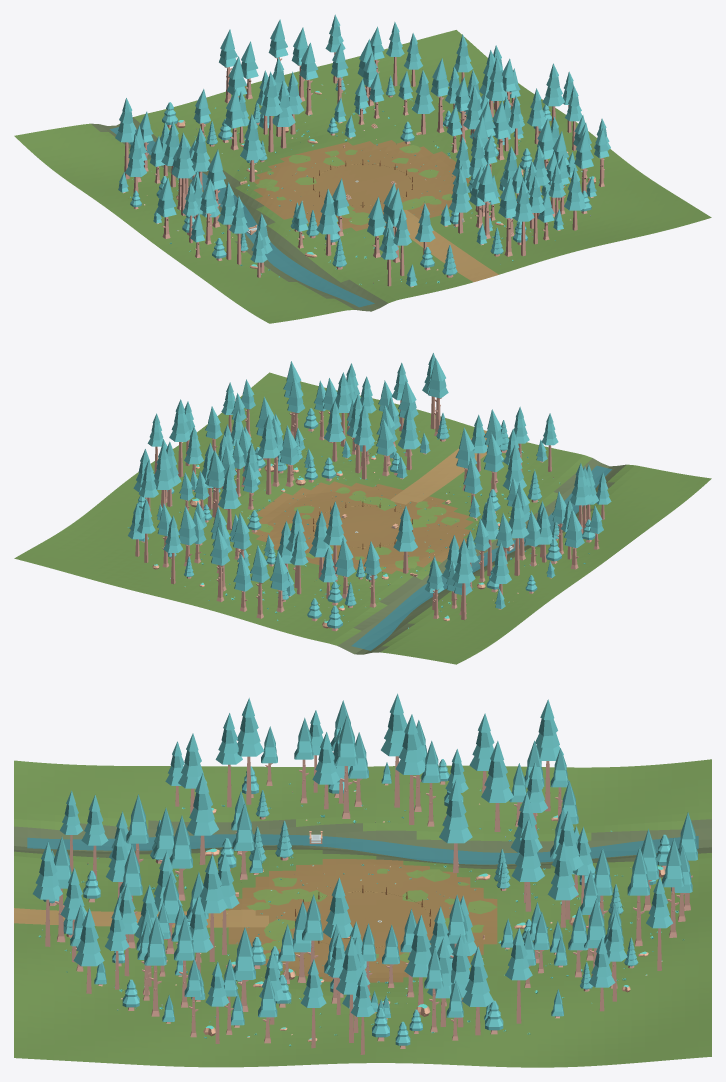
Rendered from first_person_world.glb.
The picture shows the model from 3 angles, top to bottom: view 1: azimuth 30°, elevation 25°; view 2: azimuth 150°, elevation 25°; view 3: azimuth 270°, elevation 25°; orthographic projection. The views are drawn at different scales.
Parts seen in each view (by area): view 1: WorldTerrain, ForestStream, ForestTree_146, ForestTree_017, ForestTree_170, ForestTree_156, ForestTree_160, ForestTree_053, ForestTree_124, ForestTree_142, ForestTree_112, ForestTree_161 (+28 smaller); view 2: WorldTerrain, ForestStream, ForestTree_053, ForestTree_021, ForestTree_146, ForestTree_170, ForestTree_022, ForestTree_160, ForestTree_142, ForestTree_017, ForestTree_119, ForestTree_161 (+27 smaller); view 3: WorldTerrain, ForestStream, ForestTree_170, ForestTree_094, ForestTree_111, ForestTree_156, ForestTree_153, ForestTree_053, ForestTree_042, ForestTree_146, ForestTree_173, ForestTree_043 (+63 smaller).
Boxes of the visible parts, <box> form: WorldTerrain: <box>14,30,711,323</box>; ForestStream: <box>110,127,374,307</box>; ForestTree_146: <box>171,132,195,215</box>; ForestTree_017: <box>259,71,282,152</box>; ForestTree_170: <box>240,114,264,182</box>; ForestTree_156: <box>316,189,340,255</box>; ForestTree_160: <box>498,177,517,256</box>; ForestTree_053: <box>115,98,136,179</box>; ForestTree_124: <box>477,162,496,239</box>; ForestTree_142: <box>449,168,472,233</box>; ForestTree_112: <box>512,180,534,256</box>; ForestTree_161: <box>412,70,434,134</box>; WorldTerrain: <box>14,372,711,664</box>; ForestStream: <box>351,465,611,650</box>; ForestTree_053: <box>452,539,475,620</box>; ForestTree_021: <box>257,414,280,494</box>; ForestTree_146: <box>508,493,529,575</box>; ForestTree_170: <box>393,505,417,573</box>; ForestTree_022: <box>169,399,190,477</box>; ForestTree_160: <box>427,358,448,435</box>; ForestTree_142: <box>397,405,420,470</box>; ForestTree_017: <box>323,501,346,581</box>; ForestTree_119: <box>154,444,175,507</box>; ForestTree_161: <box>218,465,241,529</box>; WorldTerrain: <box>14,759,711,1067</box>; ForestStream: <box>27,834,698,864</box>; ForestTree_170: <box>439,779,472,872</box>; ForestTree_094: <box>395,714,425,824</box>; ForestTree_111: <box>511,818,544,911</box>; ForestTree_156: <box>186,773,218,864</box>; ForestTree_153: <box>481,741,513,831</box>; ForestTree_053: <box>535,699,563,811</box>; ForestTree_042: <box>462,946,493,1035</box>; ForestTree_146: <box>381,693,407,807</box>; ForestTree_173: <box>237,698,264,804</box>; ForestTree_043: <box>199,854,227,961</box>.
Bounding box in the file's own units: 104 × 21.28 × 104.
